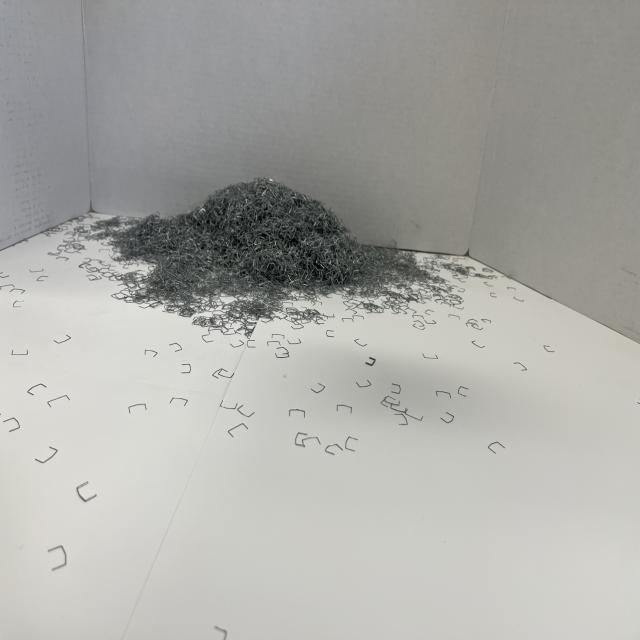staples: (105, 174, 415, 317)
